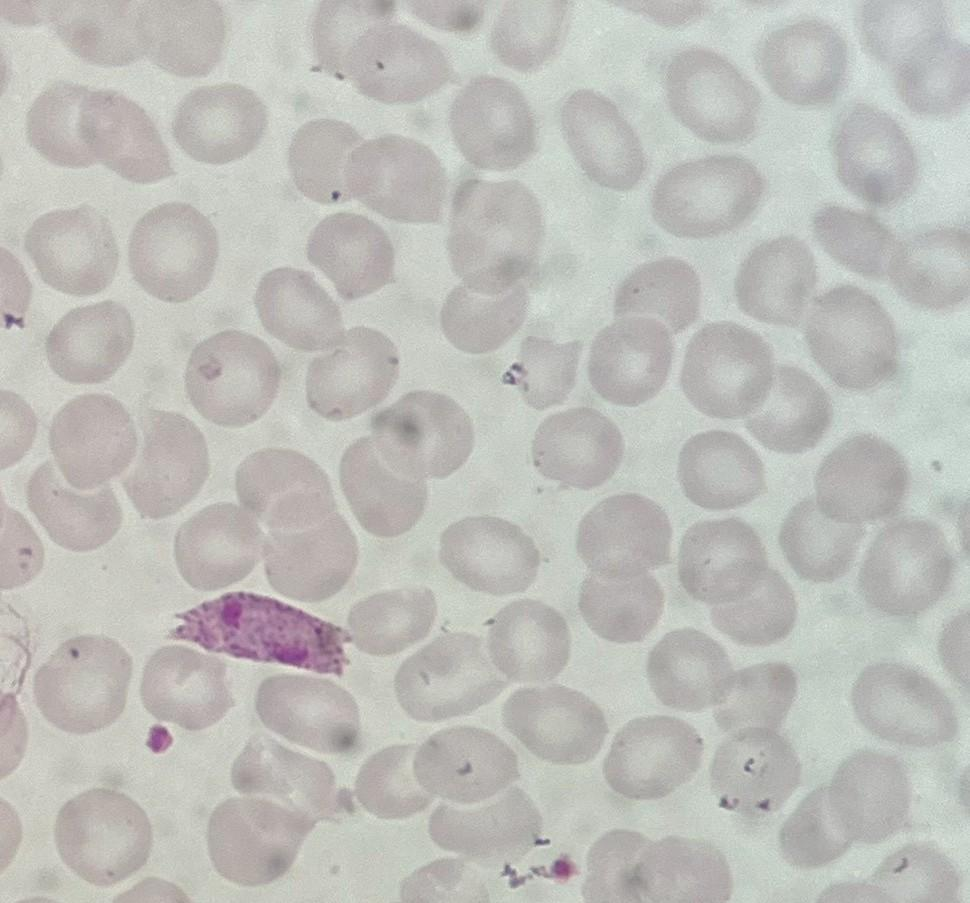Infected: (168, 589, 356, 673)
Uninfected: (28, 80, 176, 189), (783, 751, 914, 862), (860, 2, 967, 115), (445, 177, 545, 289), (232, 732, 349, 823), (396, 628, 508, 720), (32, 633, 133, 733), (120, 407, 210, 519), (45, 391, 140, 495), (370, 389, 475, 481), (337, 20, 450, 105), (183, 329, 282, 425), (53, 788, 153, 883), (125, 201, 219, 302), (341, 132, 445, 223), (206, 796, 313, 884), (856, 518, 953, 615), (25, 459, 123, 555), (259, 510, 360, 603), (24, 204, 122, 299), (849, 661, 955, 748), (337, 440, 431, 538), (674, 515, 773, 608), (662, 47, 762, 139), (648, 155, 758, 238), (252, 671, 362, 754), (425, 779, 542, 857), (804, 286, 896, 385), (677, 321, 774, 414), (302, 330, 400, 421), (410, 723, 520, 803), (706, 725, 802, 816), (602, 714, 704, 799), (574, 491, 672, 579), (813, 434, 908, 524), (436, 514, 539, 595), (500, 683, 604, 763), (447, 76, 537, 168), (305, 211, 398, 300), (559, 89, 646, 184), (584, 315, 676, 404), (140, 641, 232, 730), (833, 106, 917, 203), (173, 503, 262, 592), (43, 299, 134, 386), (255, 265, 347, 351), (528, 411, 625, 492), (232, 443, 331, 522), (170, 82, 264, 165), (129, 2, 227, 79), (703, 568, 796, 649), (675, 426, 766, 508), (438, 276, 530, 357), (44, 0, 153, 68), (741, 366, 828, 451), (777, 499, 864, 584), (611, 256, 701, 338), (623, 835, 731, 903), (733, 235, 816, 323), (645, 628, 734, 710), (759, 20, 845, 104), (813, 203, 905, 281), (285, 117, 366, 205), (484, 602, 571, 683), (574, 567, 665, 644), (310, 0, 397, 78), (707, 660, 797, 735), (344, 585, 433, 657), (893, 226, 970, 308), (352, 743, 435, 819), (578, 830, 659, 902), (488, 1, 571, 70), (508, 339, 584, 409)
